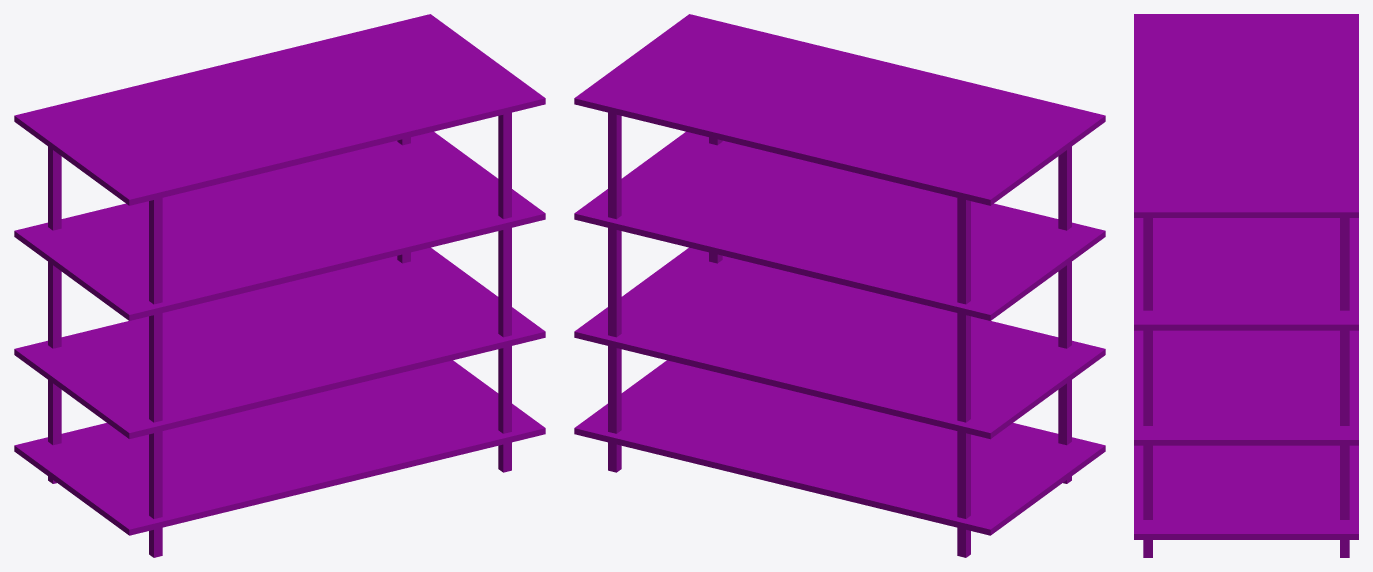
File: shelf.fbx
The picture shows the model from 3 angles, left to right: view 1: azimuth 30°, elevation 25°; view 2: azimuth 150°, elevation 25°; view 3: azimuth 270°, elevation 25°; orthographic projection. The views are drawn at different scales.
Parts seen in each view (by area): view 1: shelf; view 2: shelf; view 3: shelf.
Part boxes in pixels (x1,y1,x2,y2): shelf: [14, 14, 545, 557]; shelf: [574, 14, 1105, 557]; shelf: [1134, 14, 1358, 557].
Size of the model in its own units: 2.76 by 2.33 by 1.32.
